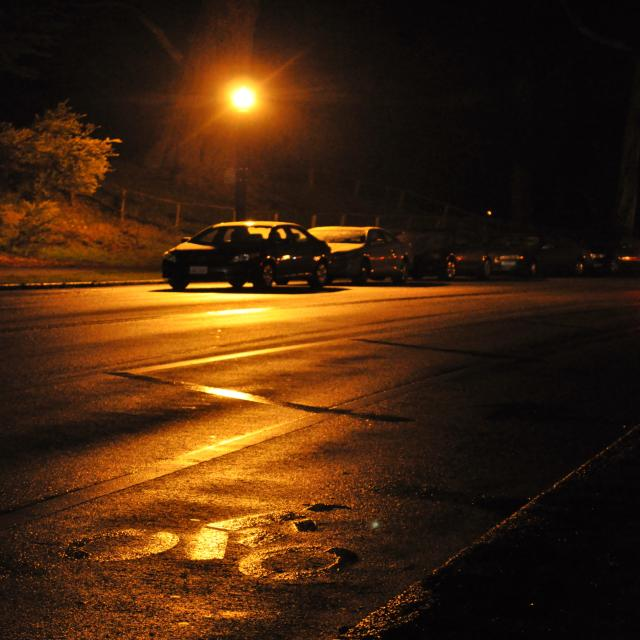Car: (162, 217, 336, 301), (308, 213, 414, 284)
